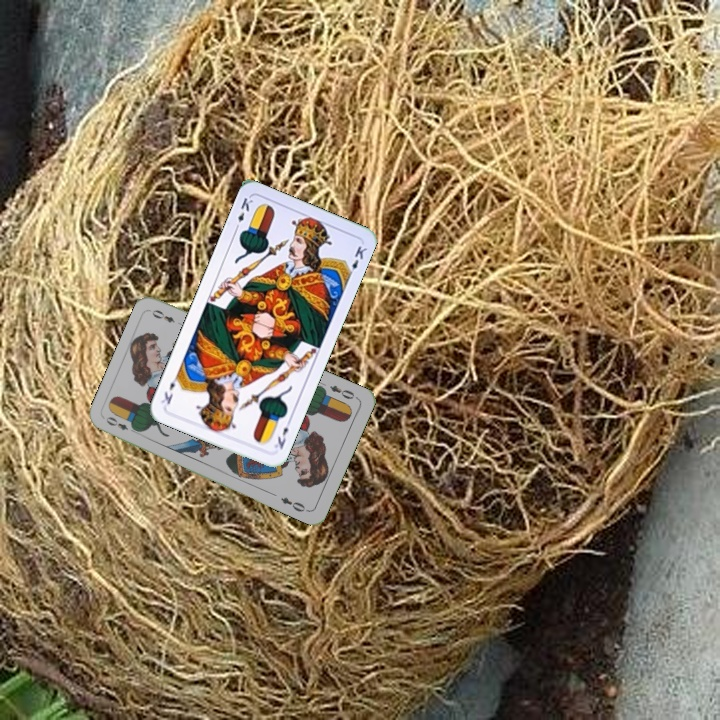EK: (231, 193, 255, 233), (270, 415, 294, 452)
EO: (102, 413, 140, 436), (326, 381, 360, 402)
